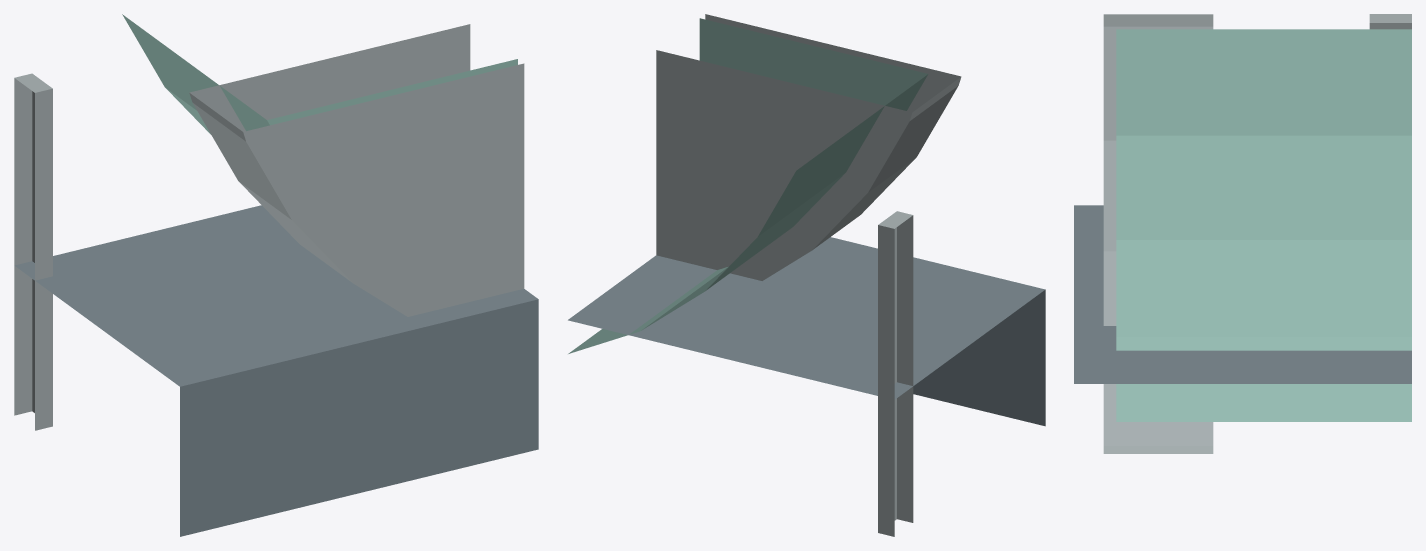
The model's file is cell_81.obj.
The picture shows the model from 3 angles, left to right: view 1: azimuth 30°, elevation 25°; view 2: azimuth 150°, elevation 25°; view 3: azimuth 270°, elevation 25°; orthographic projection. The views are drawn at different scales.
Bounding box in the file's own units: 1 × 1 × 0.8.
